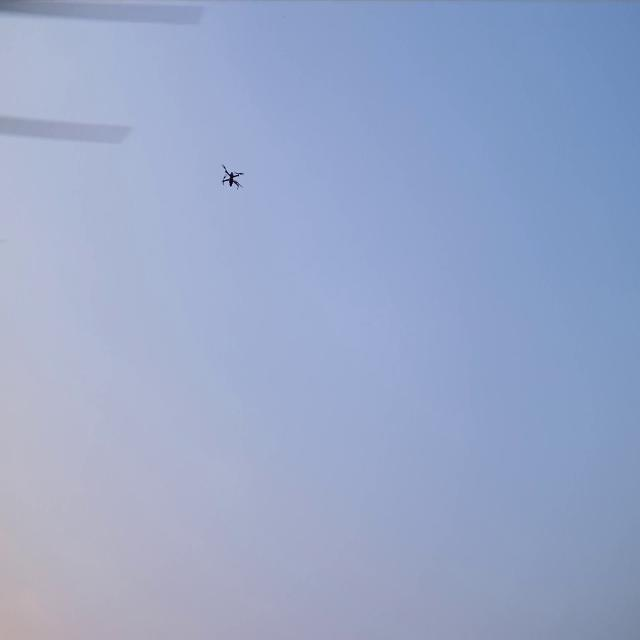UAV: (219, 162, 244, 192)
